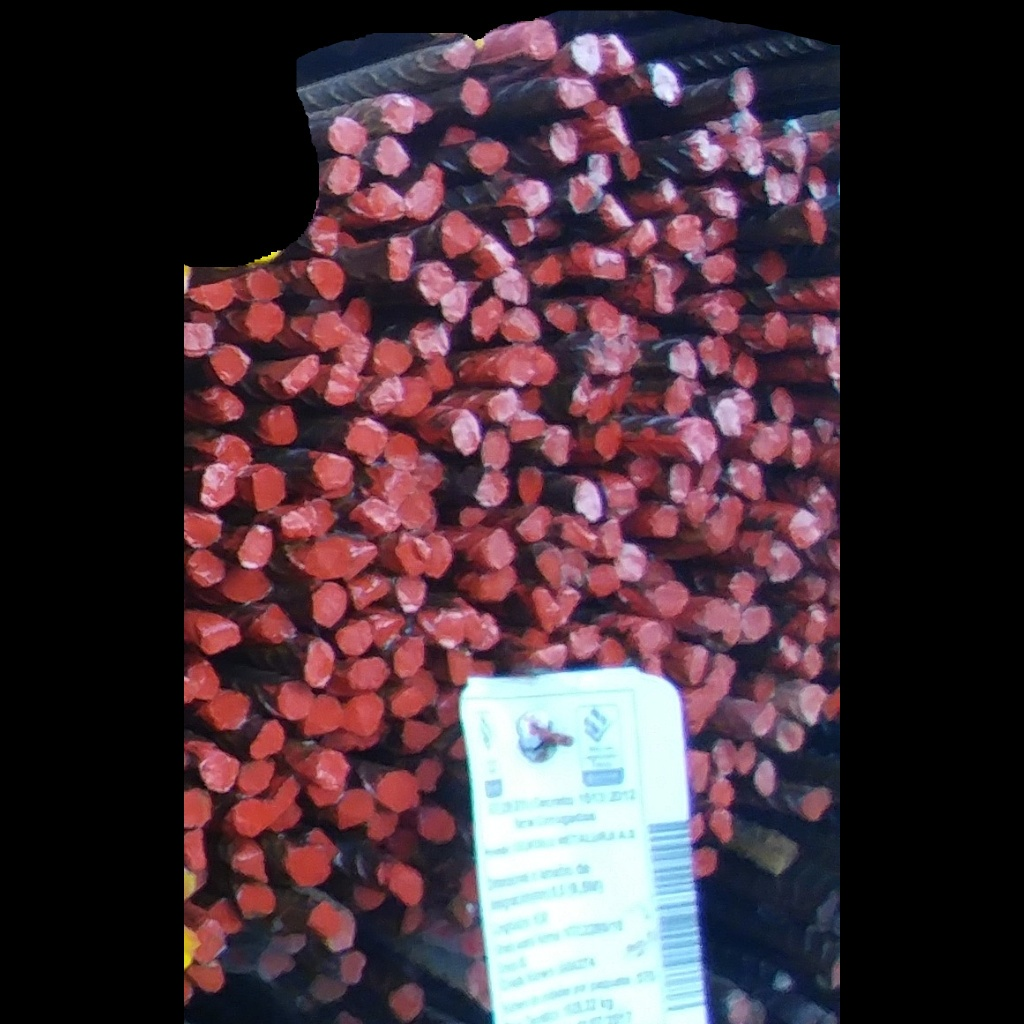dipstick: (306, 540, 352, 579), (311, 582, 349, 627), (442, 211, 477, 257), (282, 354, 321, 395), (405, 179, 443, 221), (340, 693, 382, 731), (222, 569, 271, 601), (246, 302, 284, 343), (344, 417, 386, 454), (328, 117, 366, 157), (304, 696, 341, 737), (401, 493, 437, 535), (252, 468, 286, 512), (373, 339, 412, 377), (308, 261, 345, 301), (211, 694, 251, 731), (286, 845, 326, 882), (200, 754, 238, 792), (211, 346, 248, 385), (188, 279, 235, 309), (379, 773, 416, 811), (728, 459, 763, 499), (239, 526, 271, 569), (393, 378, 430, 415), (375, 136, 410, 175), (369, 182, 403, 222), (235, 886, 276, 919), (260, 604, 296, 641), (235, 799, 271, 836), (502, 307, 540, 342), (187, 550, 225, 585), (769, 136, 808, 170), (278, 682, 312, 721), (306, 638, 333, 687), (452, 410, 480, 457), (470, 297, 501, 339), (358, 501, 400, 532), (185, 513, 222, 548), (349, 658, 388, 691), (203, 466, 234, 507), (194, 921, 225, 962), (569, 176, 603, 213), (493, 272, 530, 306), (605, 339, 642, 373), (350, 575, 388, 608), (469, 142, 508, 174), (325, 365, 357, 404), (572, 33, 600, 77), (198, 625, 242, 653), (248, 268, 284, 302), (588, 251, 627, 282), (217, 437, 251, 472), (518, 506, 552, 541), (251, 723, 285, 758), (316, 752, 350, 787), (336, 621, 370, 656), (328, 158, 361, 194), (316, 455, 352, 488), (480, 568, 516, 601), (339, 792, 371, 829), (397, 538, 428, 576), (542, 425, 570, 467), (504, 348, 534, 387), (341, 334, 370, 374), (687, 421, 716, 461), (746, 699, 775, 739), (420, 266, 453, 301), (381, 96, 412, 133), (188, 661, 219, 698), (386, 237, 412, 281), (701, 336, 731, 374), (268, 407, 298, 445), (432, 610, 462, 648), (533, 589, 560, 631), (682, 692, 707, 737), (703, 220, 738, 252), (476, 472, 508, 507), (391, 983, 423, 1018), (655, 582, 687, 617), (601, 195, 632, 231), (386, 434, 417, 470), (395, 577, 426, 613), (391, 866, 422, 902), (561, 518, 597, 549), (372, 376, 402, 413), (393, 638, 422, 676), (606, 33, 632, 75), (487, 528, 515, 567), (587, 564, 620, 597), (588, 300, 620, 334), (805, 199, 828, 246), (742, 531, 772, 567), (235, 851, 268, 883), (421, 810, 454, 842), (282, 506, 316, 537), (185, 789, 212, 828), (531, 19, 556, 61), (770, 546, 800, 581), (258, 946, 287, 982), (706, 513, 735, 549), (652, 63, 678, 103), (482, 430, 508, 470), (769, 837, 797, 874), (653, 268, 675, 315), (594, 423, 621, 461), (310, 219, 337, 257), (487, 390, 520, 421), (752, 252, 786, 282), (239, 761, 273, 791), (520, 182, 549, 217), (461, 80, 489, 116), (559, 79, 595, 107), (736, 138, 764, 174), (442, 281, 466, 323), (402, 724, 438, 752), (538, 547, 562, 589), (530, 646, 570, 671), (675, 214, 702, 251), (315, 314, 346, 346), (212, 388, 243, 420), (370, 614, 401, 646), (802, 787, 833, 819), (551, 124, 577, 162), (517, 468, 543, 506), (729, 69, 754, 108), (631, 221, 657, 258), (660, 181, 691, 212), (532, 256, 563, 287), (569, 626, 600, 657), (418, 326, 448, 358), (185, 323, 215, 355), (668, 344, 696, 378), (791, 512, 819, 546), (562, 549, 587, 587), (664, 379, 689, 417), (188, 964, 223, 991), (428, 537, 451, 578), (416, 454, 442, 490), (743, 606, 769, 642), (762, 313, 788, 349), (545, 304, 575, 335), (408, 671, 437, 703), (789, 576, 826, 601), (800, 687, 825, 724), (710, 807, 735, 844), (691, 130, 712, 174), (576, 481, 600, 519), (811, 317, 837, 352), (185, 829, 207, 870), (567, 373, 589, 414), (630, 457, 660, 487), (712, 738, 737, 774), (732, 997, 768, 1022), (505, 219, 536, 248), (485, 236, 513, 268), (347, 299, 371, 336), (618, 547, 644, 581), (332, 911, 354, 951), (427, 358, 454, 390), (311, 498, 335, 534), (416, 760, 443, 792), (597, 521, 621, 557), (752, 426, 776, 462), (687, 752, 708, 793), (668, 464, 690, 503), (686, 647, 709, 684), (445, 41, 473, 71), (309, 902, 337, 932), (777, 721, 803, 753), (687, 487, 708, 526), (708, 308, 737, 336), (651, 506, 677, 537), (604, 107, 627, 142), (715, 402, 738, 437), (702, 257, 734, 282), (391, 692, 423, 717), (729, 572, 754, 604), (474, 616, 498, 649), (309, 979, 345, 1001), (733, 354, 757, 387), (369, 812, 396, 841), (791, 430, 811, 469), (775, 638, 800, 669), (752, 670, 777, 701), (587, 336, 606, 376), (618, 145, 641, 178), (532, 353, 555, 386), (711, 188, 736, 218), (449, 650, 471, 684), (213, 902, 237, 933), (438, 690, 459, 725), (587, 389, 608, 424), (610, 377, 631, 412), (391, 831, 418, 858), (385, 471, 414, 496), (341, 953, 366, 982), (701, 602, 726, 631), (756, 759, 775, 797), (443, 125, 475, 147), (560, 591, 580, 626), (805, 609, 825, 644), (590, 153, 612, 184), (771, 388, 793, 419), (275, 806, 301, 832), (275, 776, 302, 801), (636, 622, 661, 649), (692, 848, 716, 876), (606, 483, 635, 506), (699, 463, 722, 492), (512, 419, 542, 441), (808, 487, 835, 511), (710, 779, 734, 806), (738, 113, 761, 141), (356, 888, 385, 910), (308, 788, 343, 806), (687, 811, 706, 844), (705, 671, 728, 698), (803, 646, 823, 677), (807, 131, 829, 159), (401, 907, 423, 935), (724, 609, 741, 645), (765, 168, 781, 206), (781, 173, 800, 205), (537, 217, 561, 242), (460, 508, 486, 531), (601, 639, 623, 666), (721, 496, 743, 523), (807, 167, 826, 197), (275, 934, 308, 951), (737, 391, 753, 426), (737, 742, 755, 773), (462, 609, 480, 639), (475, 251, 493, 279), (413, 98, 433, 123), (638, 320, 660, 341), (814, 417, 832, 442), (190, 312, 218, 328), (621, 314, 637, 341), (711, 144, 728, 169), (781, 118, 805, 135), (776, 423, 789, 454), (715, 654, 735, 674), (424, 163, 445, 179)
